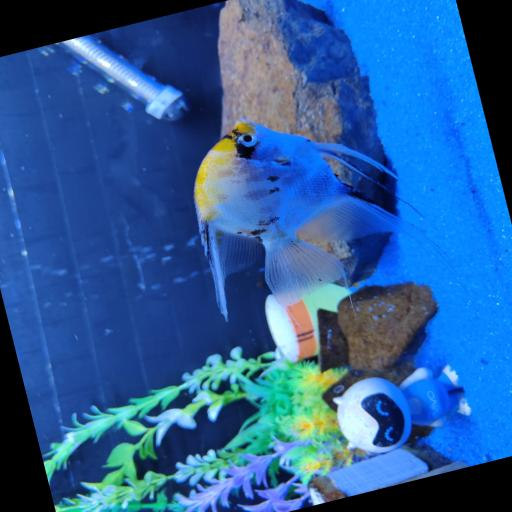Fish: (195, 118, 447, 318)
